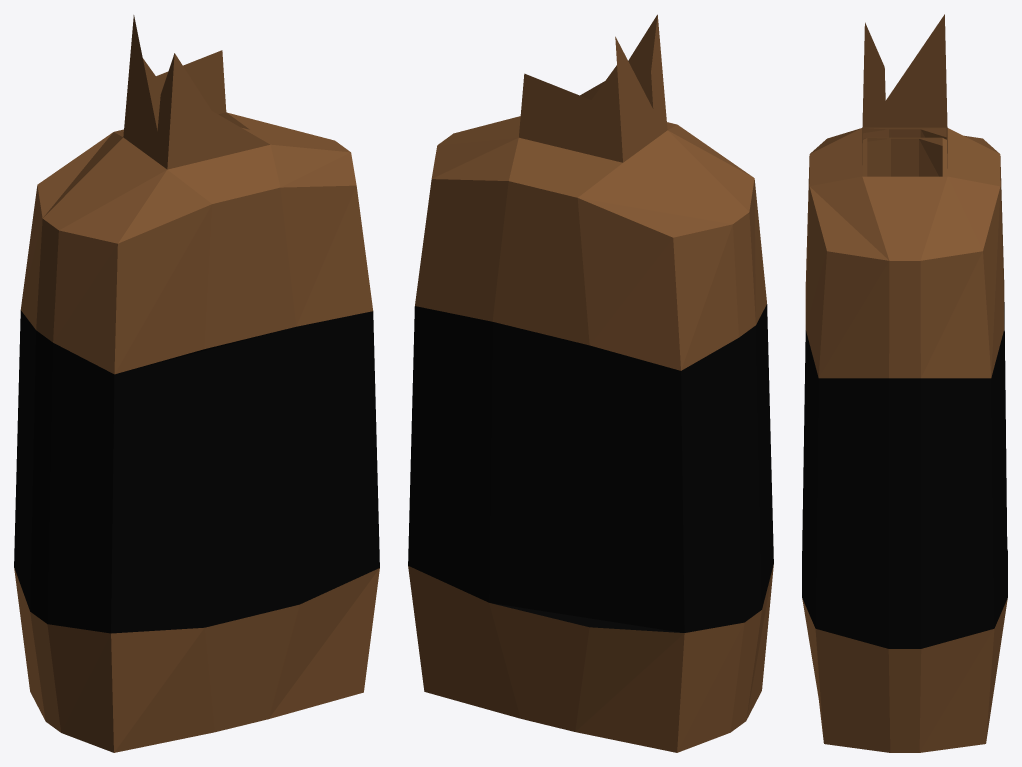
The model's file is broken whiskey bottle.fbx.
3 renders of one model, left to right at view 1: azimuth 30°, elevation 25°; view 2: azimuth 150°, elevation 25°; view 3: azimuth 270°, elevation 25°, orthographic. The views are drawn at different scales.
Parts seen in each view (by area): view 1: bottle; view 2: bottle; view 3: bottle.
Part boxes in pixels (x1,y1,x2,y2): bottle: (14,15,379,752); bottle: (408,14,773,752); bottle: (802,14,1007,752).
Size of the model in its own units: 2.8 by 5.72 by 1.63.
